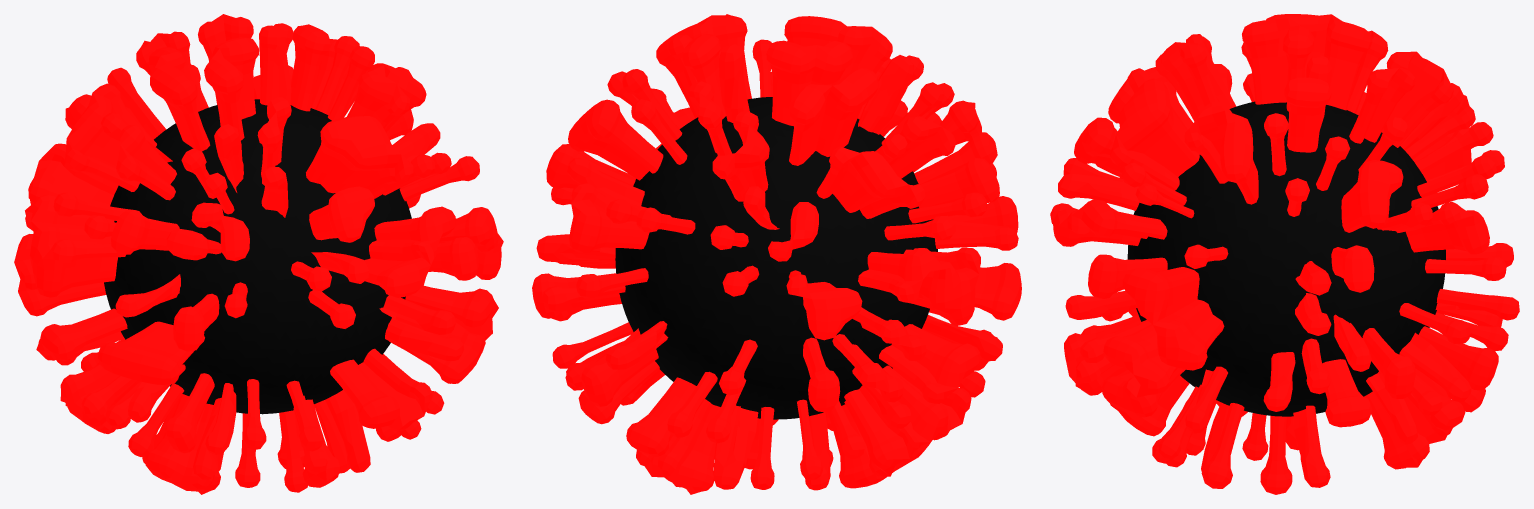
The model's file is EvilVirus.fbx.
The picture shows the model from 3 angles, left to right: view 1: azimuth 30°, elevation 25°; view 2: azimuth 150°, elevation 25°; view 3: azimuth 270°, elevation 25°; orthographic projection. The views are drawn at different scales.
Visible parts, largest first — view 1: Cube, Icosphere; view 2: Cube, Icosphere; view 3: Cube, Icosphere.
Boxes of the visible parts, x1,y1,x2,y2 form: Cube: (14,14,503,494); Icosphere: (104,99,411,414); Cube: (532,14,1021,494); Icosphere: (615,97,937,419); Cube: (1050,14,1519,494); Icosphere: (1127,101,1445,416).
Size of the model in its own units: 338 by 341 by 332.
